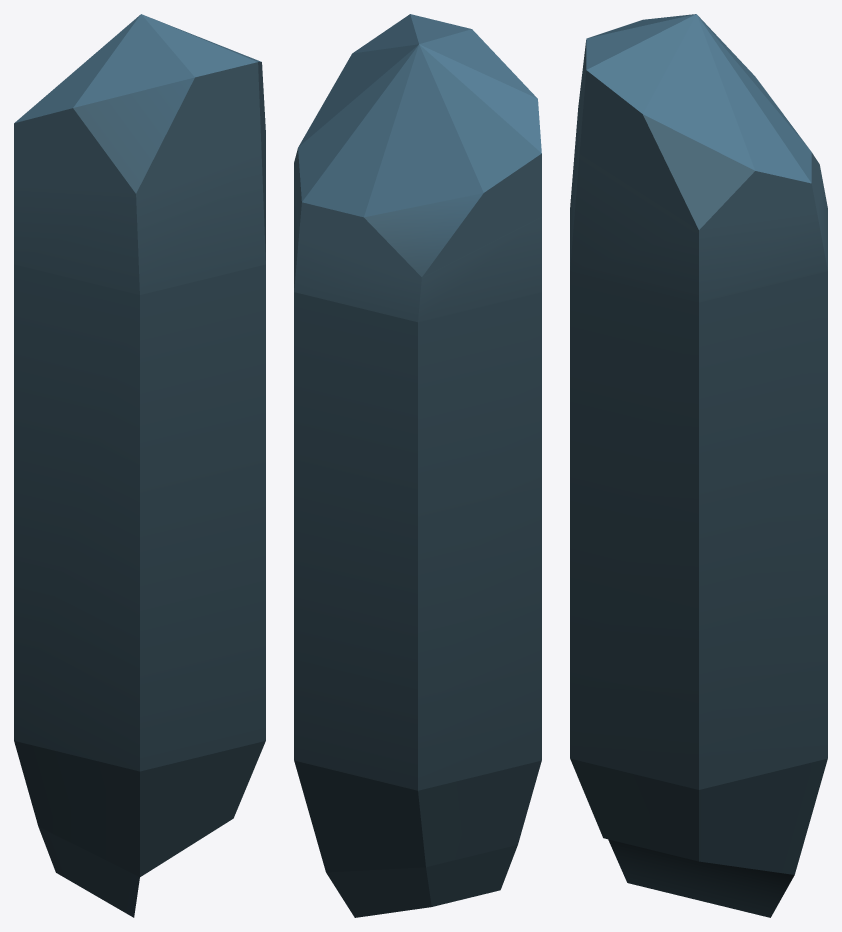
Rendered from geology-crystals-calcitecrystal_v2.fbx.
3 renders of one model, left to right at view 1: azimuth 30°, elevation 25°; view 2: azimuth 150°, elevation 25°; view 3: azimuth 270°, elevation 25°, orthographic. The views are drawn at different scales.
Parts seen in each view (by area): view 1: CalciteCrystal_v2; view 2: CalciteCrystal_v2; view 3: CalciteCrystal_v2.
Part boxes in pixels (<box>): CalciteCrystal_v2: <box>14,14,265,917</box>; CalciteCrystal_v2: <box>294,14,541,917</box>; CalciteCrystal_v2: <box>570,14,827,917</box>.
Bounding box in the file's own units: 2.21 × 7.3 × 1.92.
